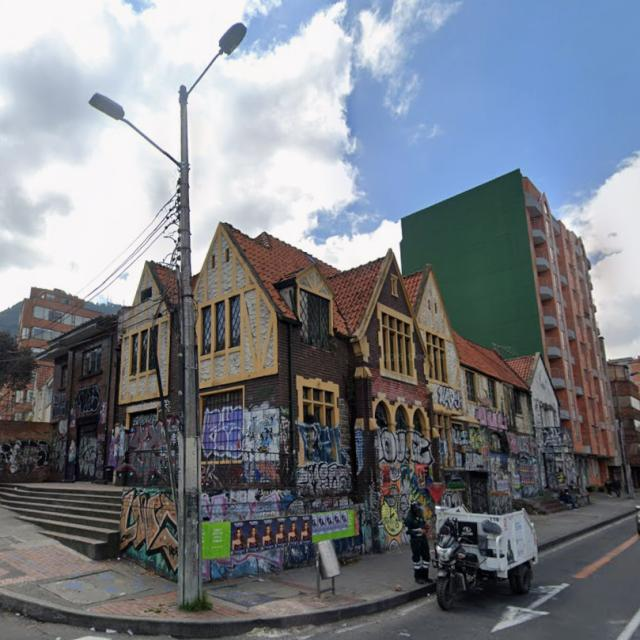fachada: (402, 170, 620, 486), (454, 333, 541, 513), (39, 316, 118, 482), (507, 353, 577, 491), (17, 288, 102, 355), (608, 358, 639, 488)
poste: (178, 86, 202, 606)
